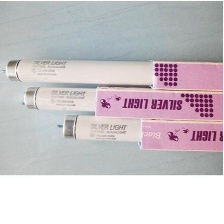carton: (92, 85, 224, 123), (147, 56, 224, 93), (136, 118, 224, 150)
light_bulb: (13, 82, 224, 117), (53, 111, 224, 151), (0, 58, 224, 87)
